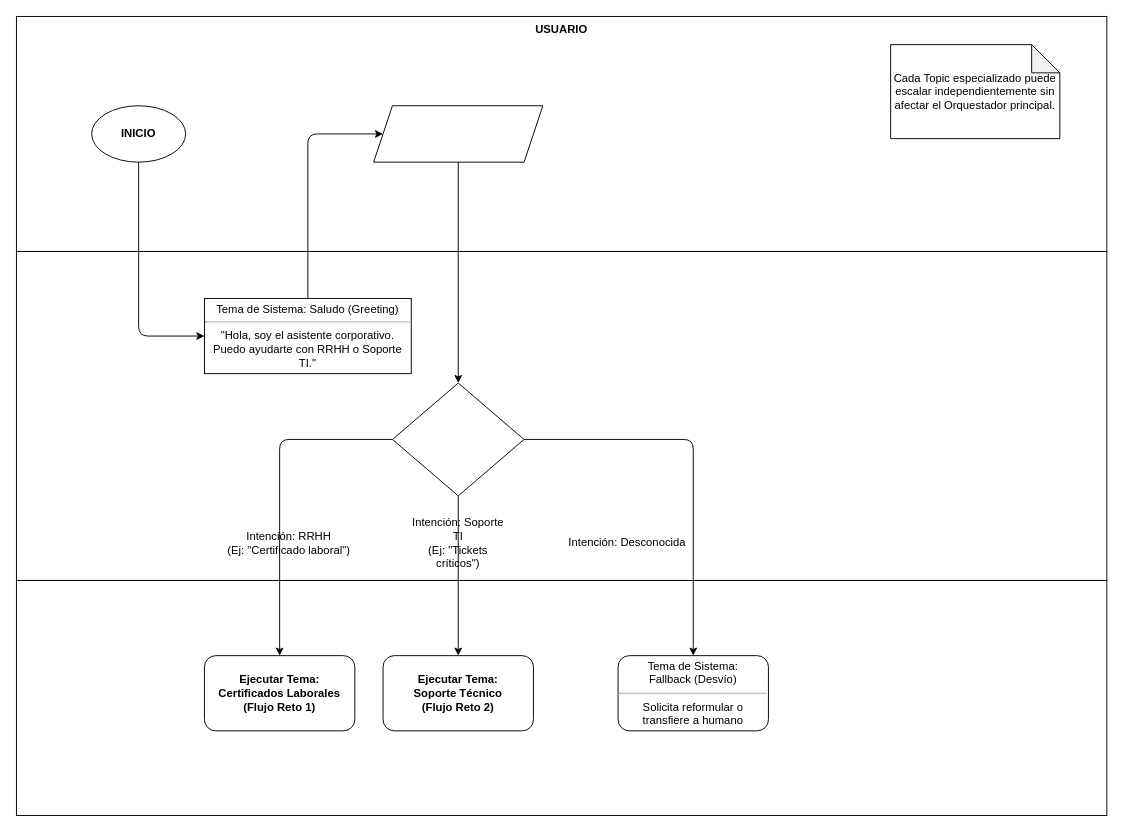
Some shapes in this 1123 by 832 pixel diagram are drawn without their labels. Each missing label, with the box of its shape:
MICROSOFT COPILOT STUDIO (TEMA DEL SISTEMA / ORQUESTADOR): (16, 251, 1107, 580)
Motor de Comprensión de Lenguaje Natural (NLU): (392, 382, 524, 496)
SUB-FLUJOS (TOPICS ESPECÍFICOS): (16, 580, 1107, 815)
Usuario escribe su solicitud en lenguaje natural: (373, 105, 543, 162)
